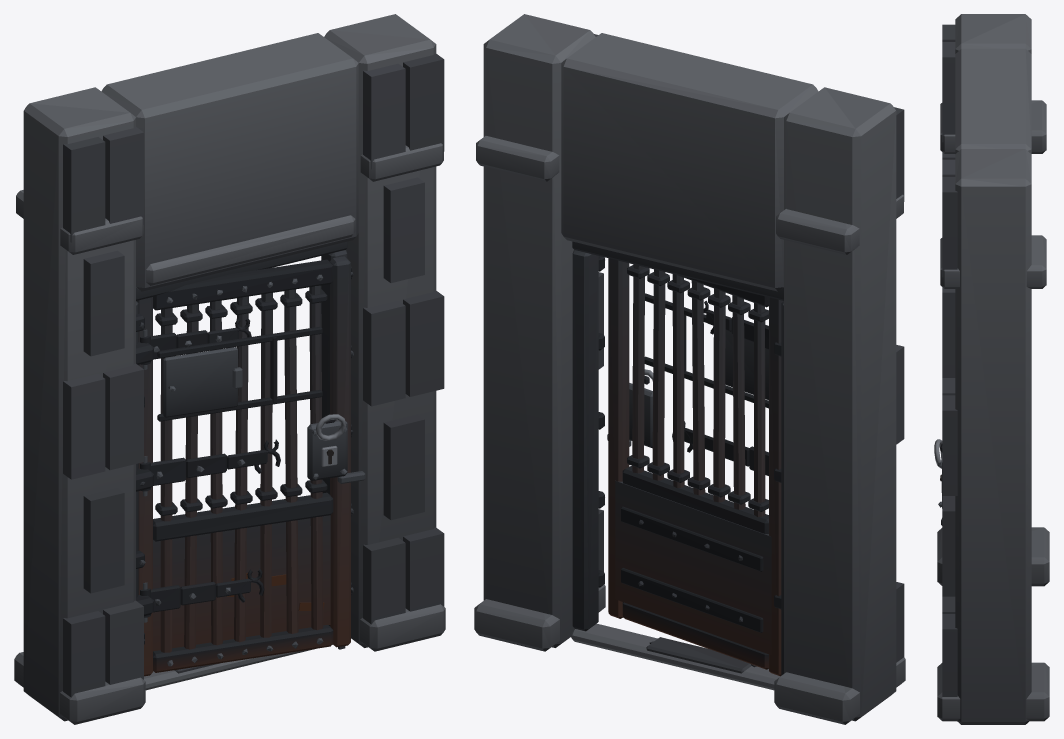
File: dun-cell-bar-door.glb
3 renders of one model, left to right at view 1: azimuth 30°, elevation 25°; view 2: azimuth 150°, elevation 25°; view 3: azimuth 270°, elevation 25°, orthographic. The views are drawn at different scales.
Visible parts, largest first — view 1: dun_cell_bar_door; view 2: dun_cell_bar_door; view 3: dun_cell_bar_door.
Boxes of the visible parts, x1,y1,x2,y2 form: dun_cell_bar_door: (14,14,445,724); dun_cell_bar_door: (474,14,905,724); dun_cell_bar_door: (934,14,1049,724).
Bounding box in the file's own units: 2 × 3.02 × 0.5742.
